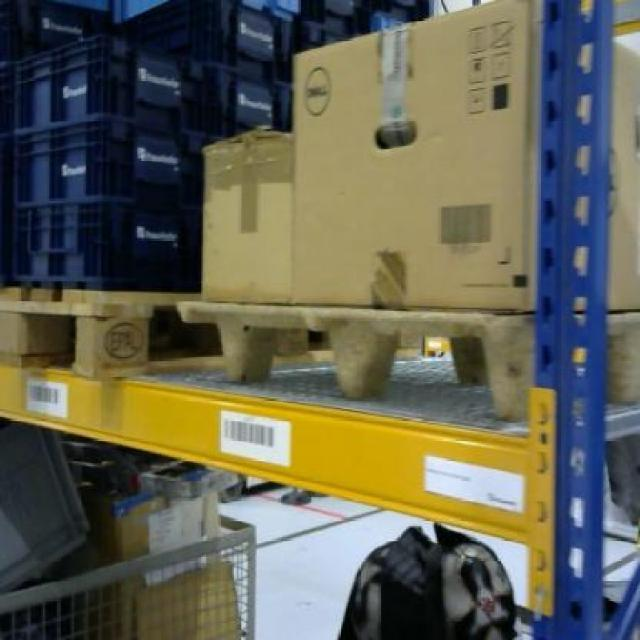box: (299, 2, 639, 315), (198, 128, 294, 302)
